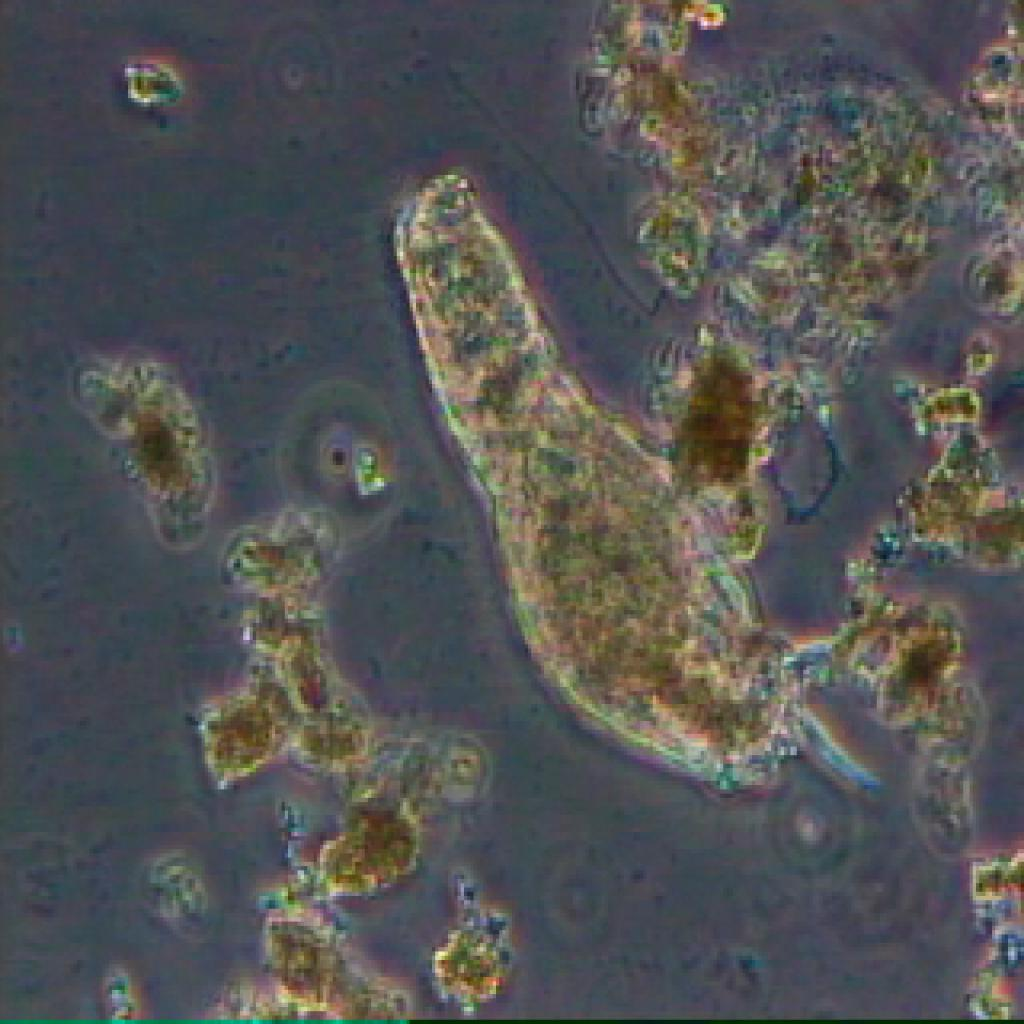Rotatoria: (380, 164, 858, 792)
